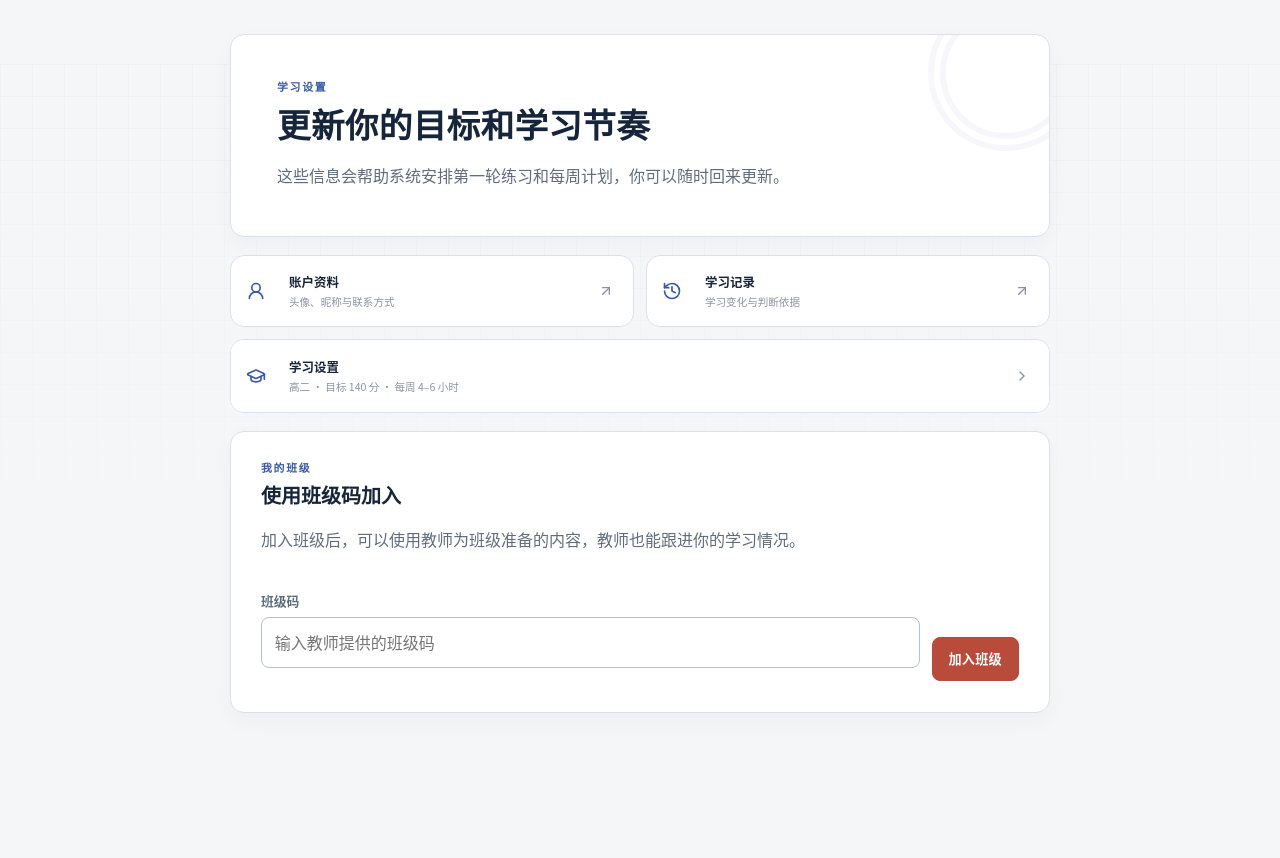
Scenario: profile learning stage disclosure › collapses the entire learning settings form and expands it from the unified settings row
Expected: the text "高二 · 目标 140 分 · 每周 4–6 小时" is shown, [289,379,459,394]
Step 1. Click the heading "学习设置 高二 · 目标 140 分 · 每周 4–6 小时" → (314, 367), box [231,340,1049,412]
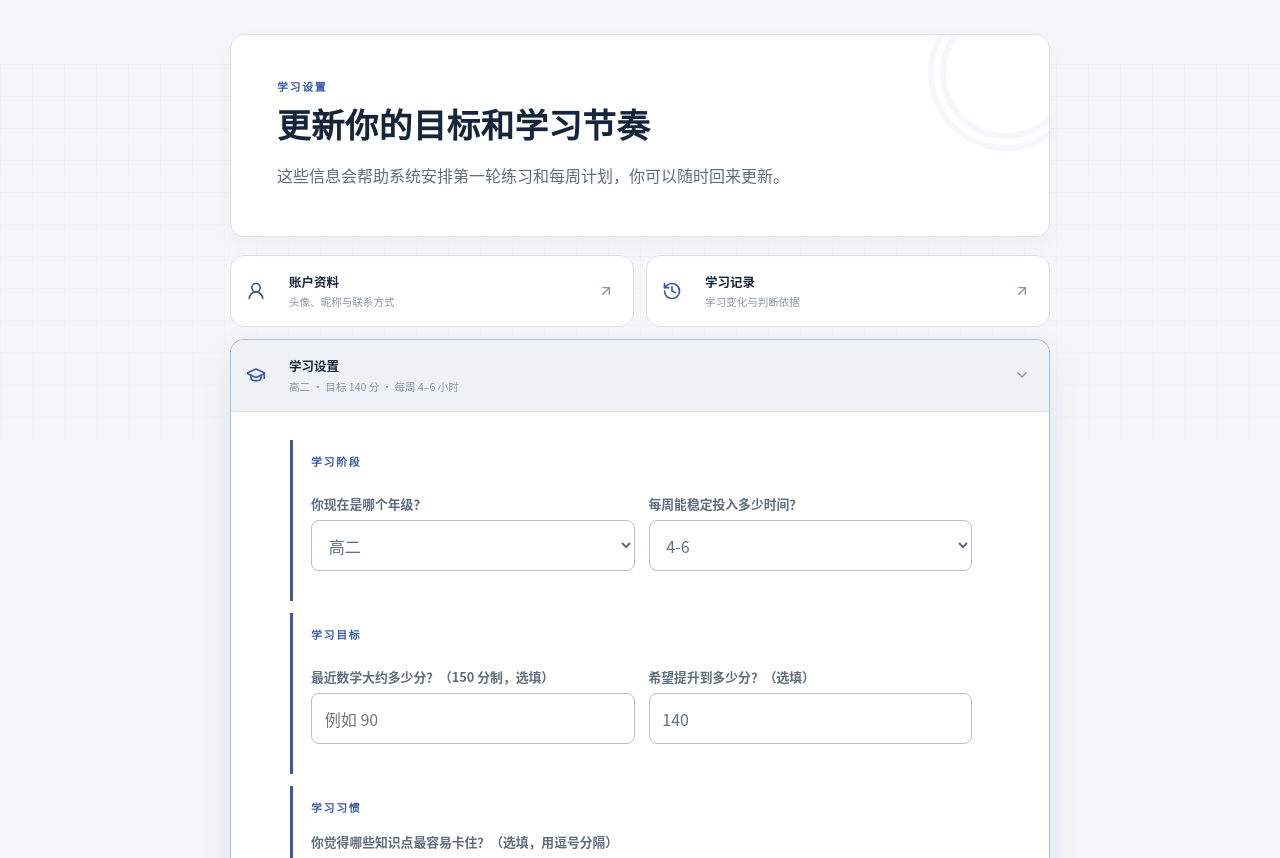
Now the dropdown labelled "你现在是哪个年级？" shows "高二", box [311,520,634,571]
